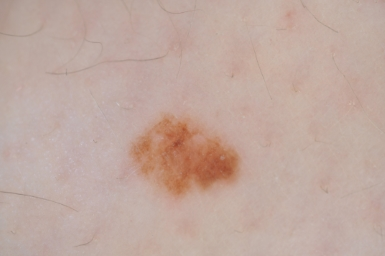nevus: (129, 116, 241, 200)
